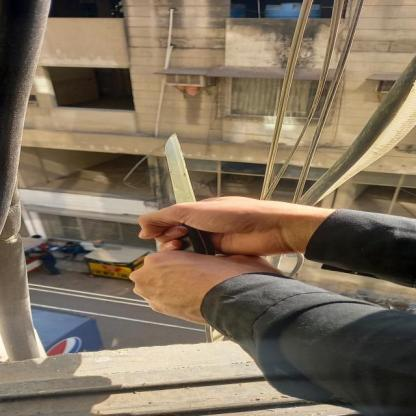Knife: (144, 132, 232, 256)
